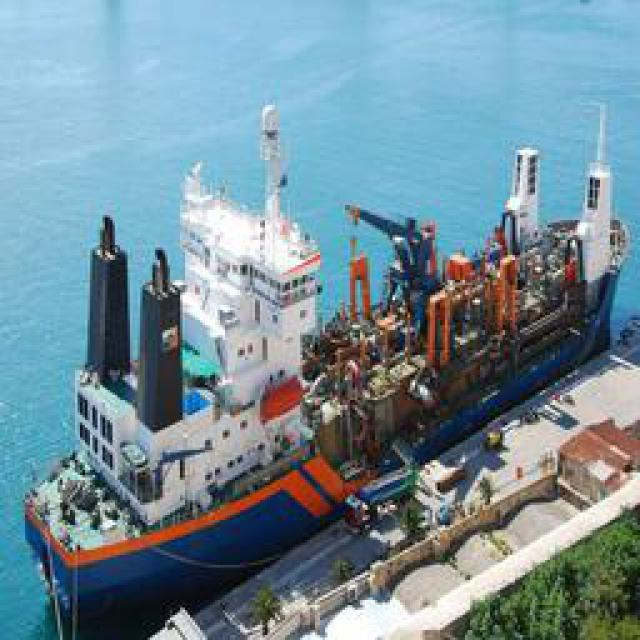Ship: (22, 101, 622, 614)
